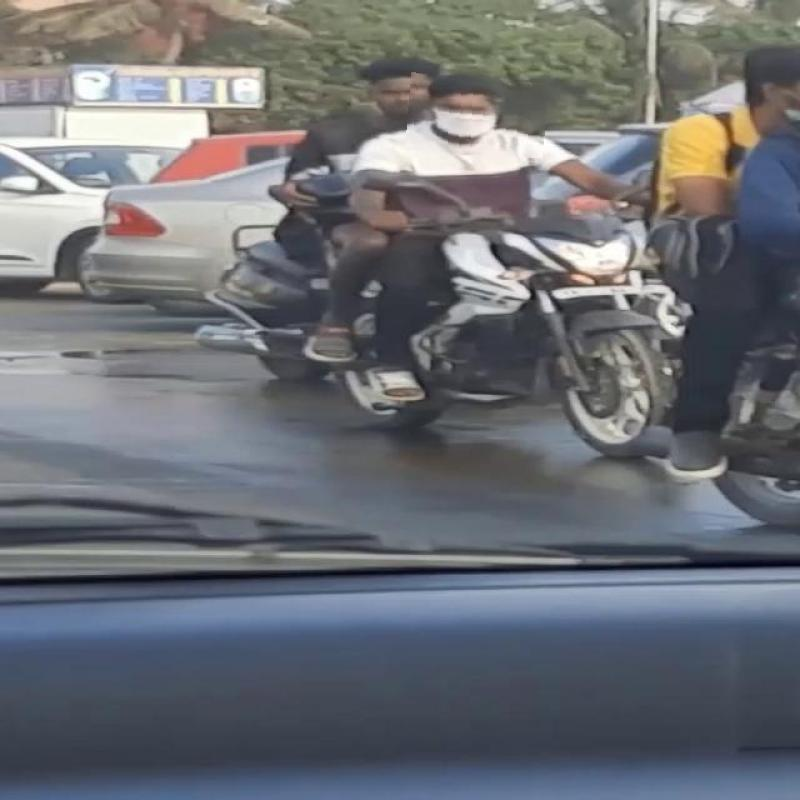nohelmet: (406, 75, 548, 156)
